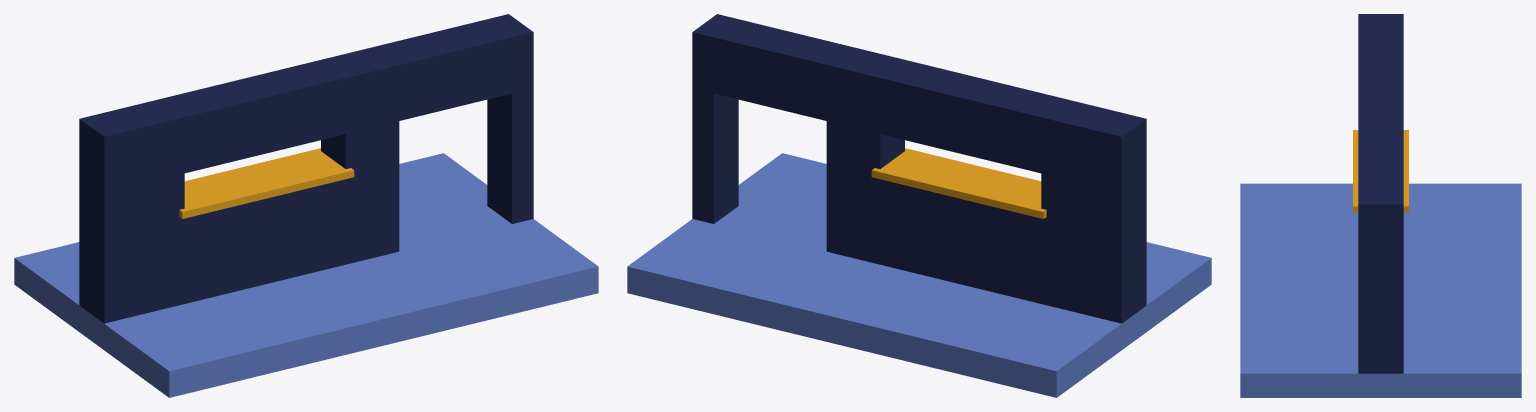
File: discovery_turn_wall.obj
3 views of the same model, side by side, from view 1: azimuth 30°, elevation 25°; view 2: azimuth 150°, elevation 25°; view 3: azimuth 270°, elevation 25° (orthographic). The views are drawn at different scales.
Parts seen in each view (by area): view 1: discovery_turn_wall; view 2: discovery_turn_wall; view 3: discovery_turn_wall.
Part boxes in pixels (bbox=[...]): discovery_turn_wall: bbox=[14, 14, 598, 397]; discovery_turn_wall: bbox=[627, 14, 1211, 397]; discovery_turn_wall: bbox=[1240, 14, 1521, 397].
Size of the model in its own units: 16 by 7.6 by 10.
